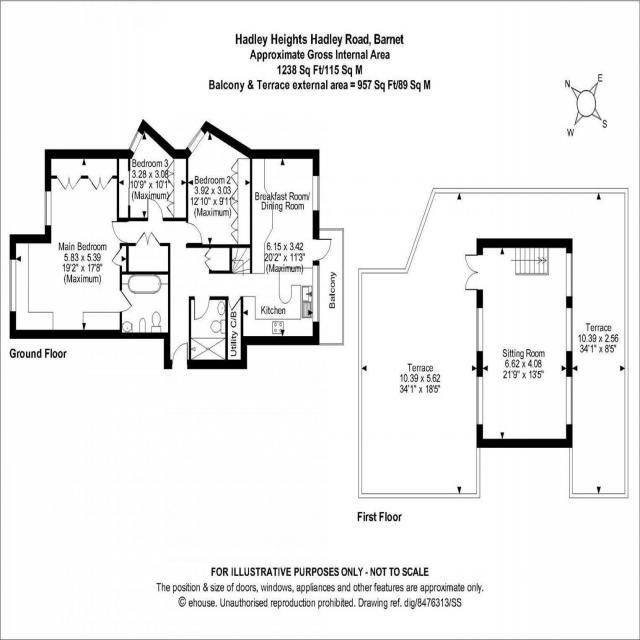DOOR: (312, 237, 332, 262), (146, 197, 164, 222), (194, 296, 211, 321), (187, 221, 203, 245), (111, 221, 128, 243), (120, 289, 133, 313)
DOUBLE DOOR: (464, 253, 483, 291)
ROOM: (111, 148, 333, 369), (9, 149, 132, 339), (464, 236, 573, 447), (185, 120, 252, 249), (116, 119, 189, 222)
WINDOW: (186, 128, 206, 156), (312, 264, 320, 324), (9, 258, 17, 313), (476, 306, 484, 353), (128, 129, 143, 154), (566, 374, 573, 426), (476, 376, 483, 425), (566, 305, 573, 353), (566, 251, 573, 298), (312, 173, 320, 212), (44, 190, 52, 226)
